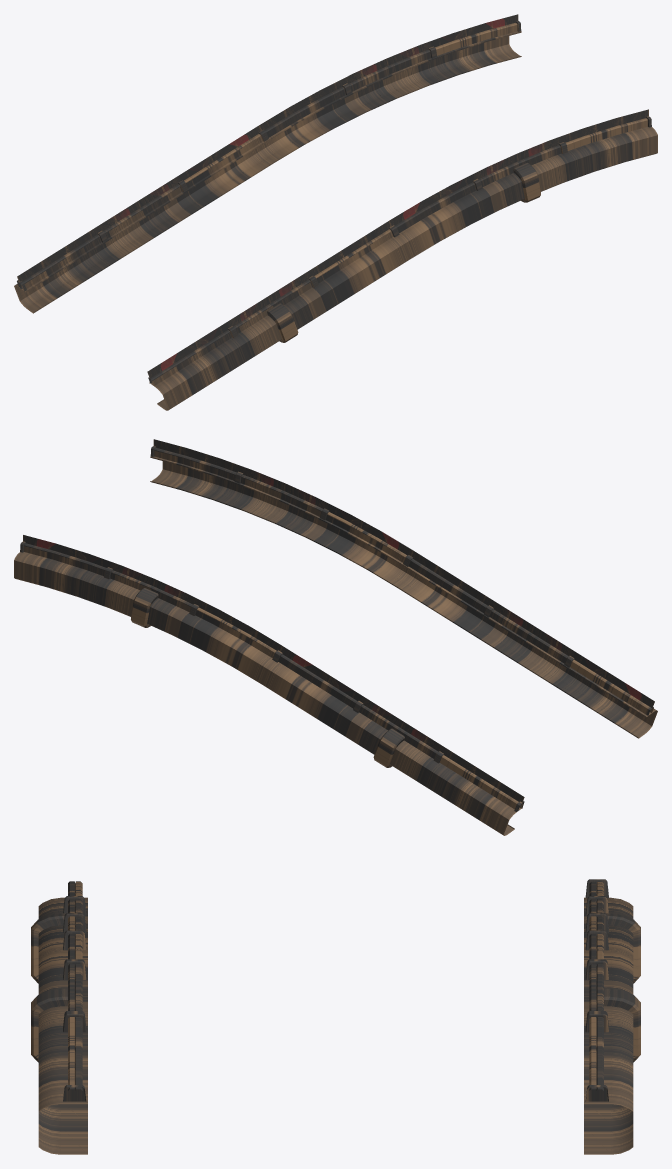
File: Mur_R_20.fbx
The picture shows the model from 3 angles, top to bottom: view 1: azimuth 30°, elevation 25°; view 2: azimuth 150°, elevation 25°; view 3: azimuth 270°, elevation 25°; orthographic projection. The views are drawn at different scales.
Visible parts, largest first — view 1: polySurface205; view 2: polySurface205; view 3: polySurface205.
Boxes of the visible parts, x1,y1,x2,y2 form: polySurface205: (14,14,657,410); polySurface205: (14,439,657,835); polySurface205: (31,879,640,1154).
Bounding box in the file's own units: 29.22 × 9.92 × 15.38.
